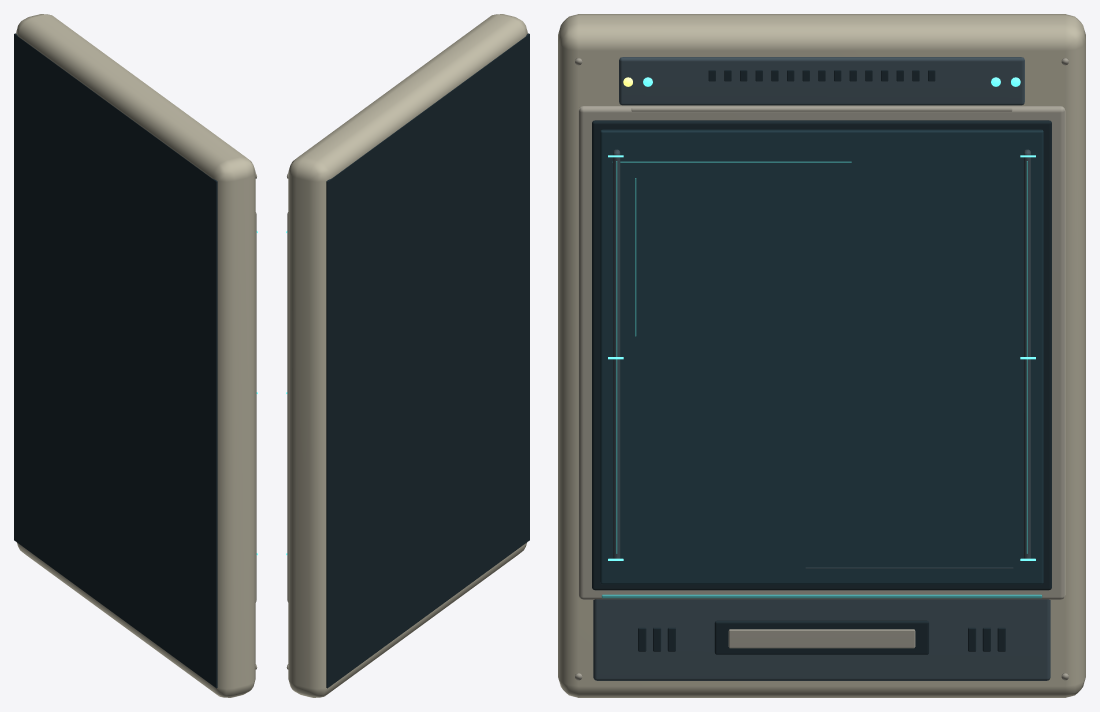
The model's file is SM_ResearchMirror.fbx.
The picture shows the model from 3 angles, left to right: view 1: azimuth 30°, elevation 25°; view 2: azimuth 150°, elevation 25°; view 3: azimuth 270°, elevation 25°; orthographic projection. The views are drawn at different scales.
Visible parts, largest first — view 1: SM_ResearchMirror; view 2: SM_ResearchMirror; view 3: SM_ResearchMirror.
Part boxes in pixels (left/top/right/bottom): SM_ResearchMirror: left=14, top=14, right=257, bottom=697; SM_ResearchMirror: left=286, top=14, right=529, bottom=697; SM_ResearchMirror: left=558, top=14, right=1085, bottom=697.
Bounding box in the file's own units: 10.1 × 64 × 90.
